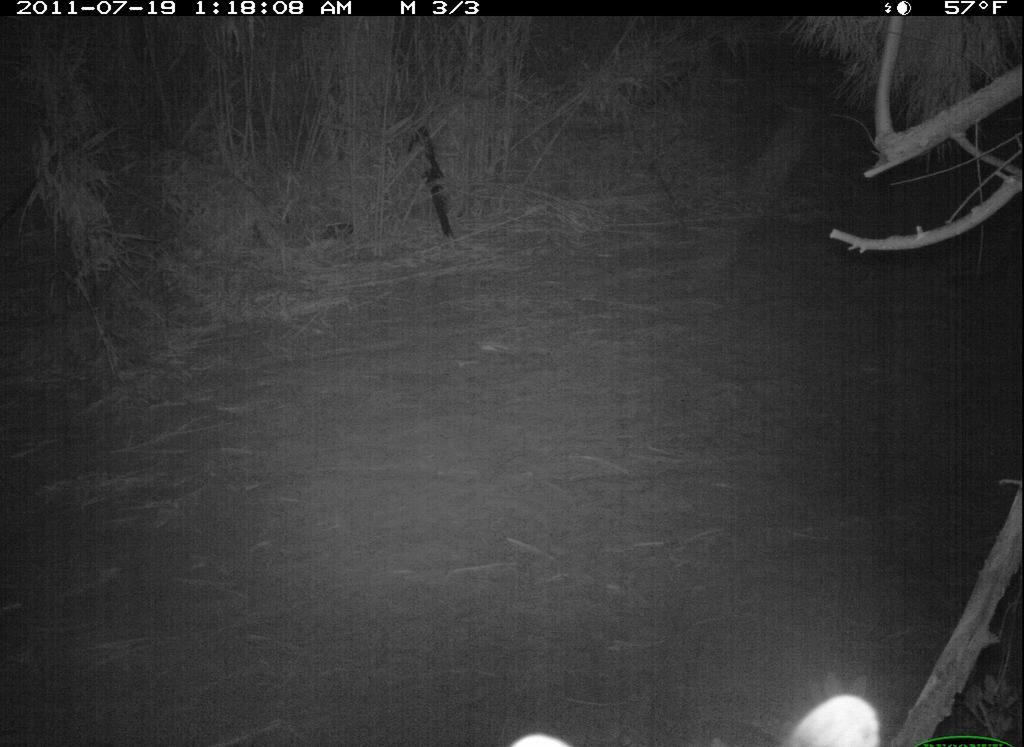raccoon: (488, 674, 907, 747)
